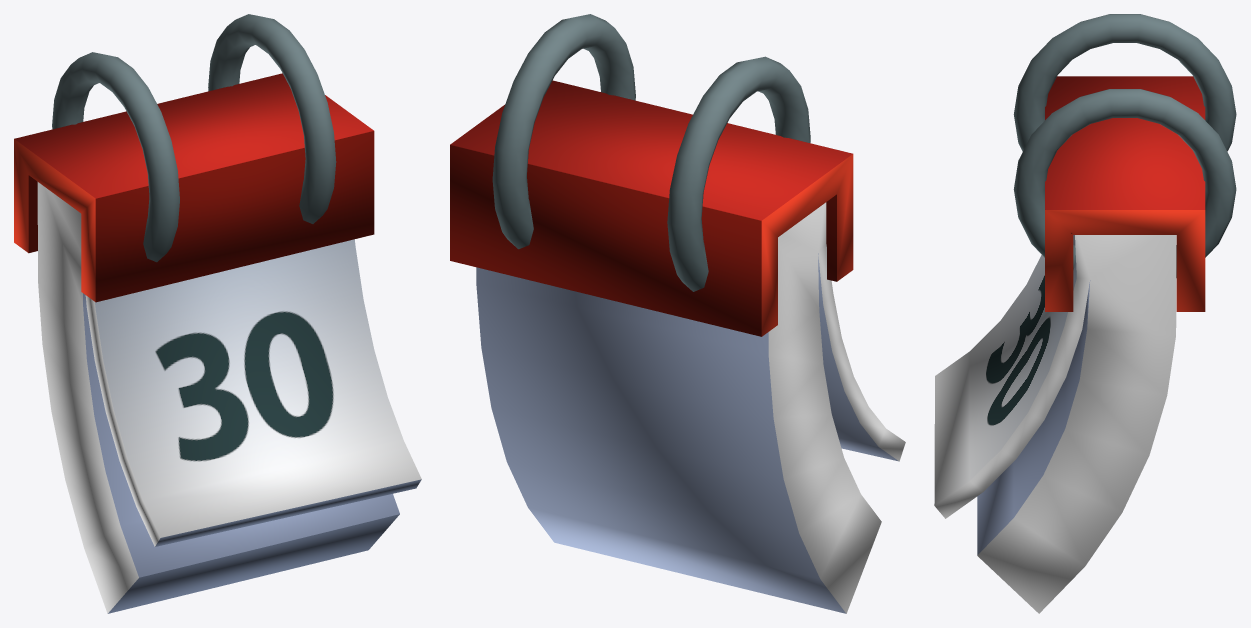
Rendered from Calendar.fbx.
The picture shows the model from 3 angles, left to right: view 1: azimuth 30°, elevation 25°; view 2: azimuth 150°, elevation 25°; view 3: azimuth 270°, elevation 25°; orthographic projection. The views are drawn at different scales.
Visible parts, largest first — view 1: Calendar; view 2: Calendar; view 3: Calendar.
Part boxes in pixels (<box>): Calendar: <box>14,14,421,613</box>; Calendar: <box>450,14,905,613</box>; Calendar: <box>934,14,1236,613</box>.
Bounding box in the file's own units: 204 × 355 × 195.
